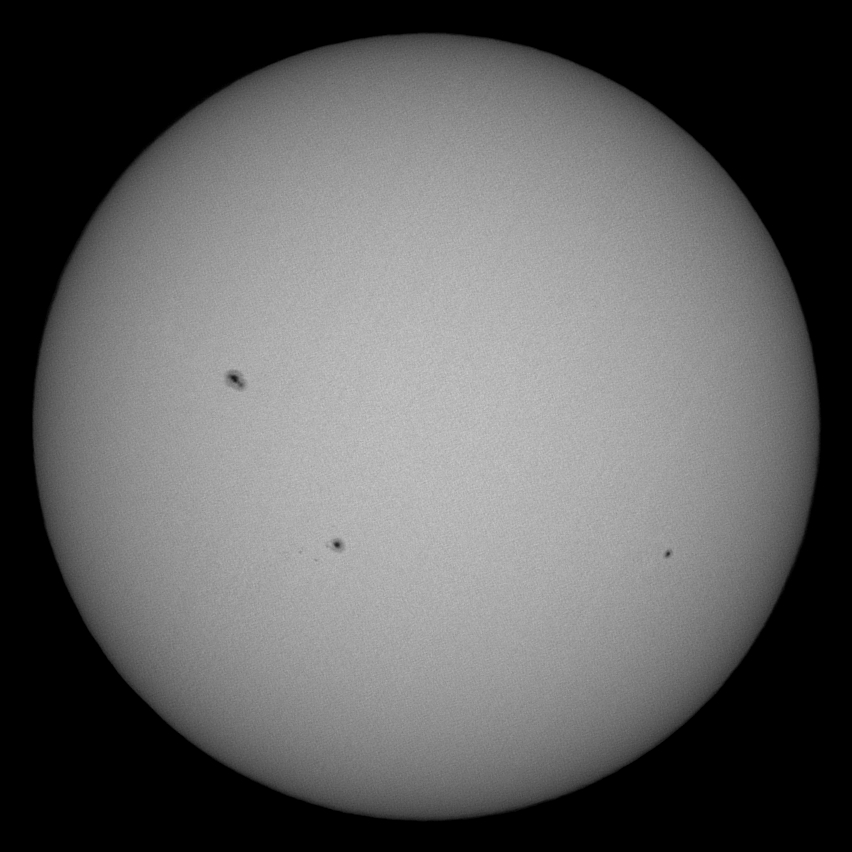sunspot: (221, 366, 247, 390), (326, 533, 349, 555), (660, 543, 677, 563)
